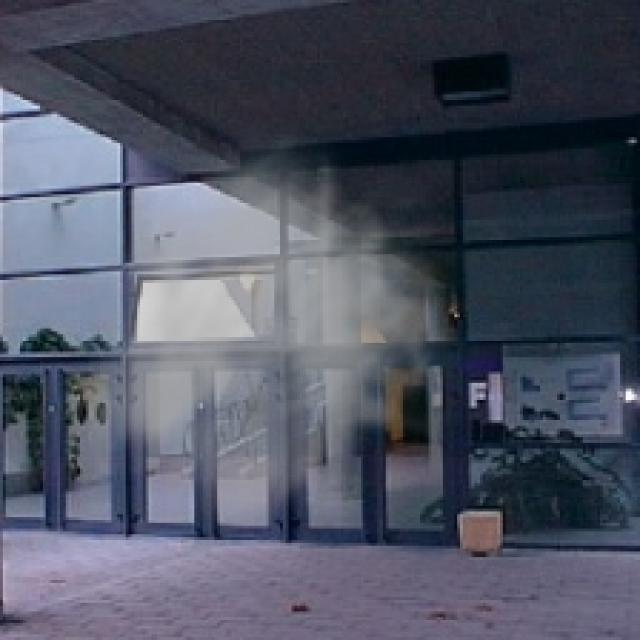Smoke: (88, 120, 480, 540)
